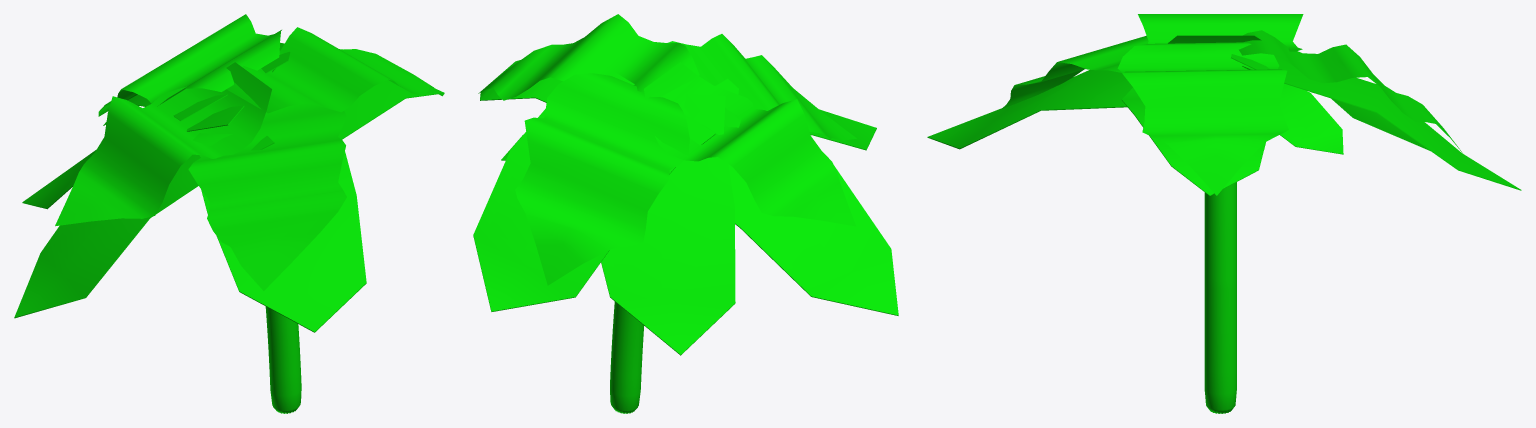
File: Palmtree.fbx
3 renders of one model, left to right at view 1: azimuth 30°, elevation 25°; view 2: azimuth 150°, elevation 25°; view 3: azimuth 270°, elevation 25°, orthographic. The views are drawn at different scales.
Parts seen in each view (by area): view 1: Palm_Tree; view 2: Palm_Tree; view 3: Palm_Tree.
Boxes of the visible parts, x1,y1,x2,y2 form: Palm_Tree: (14, 14, 444, 413); Palm_Tree: (473, 14, 898, 413); Palm_Tree: (927, 14, 1521, 413).
Size of the model in its own units: 1393 by 1108 by 1626.
